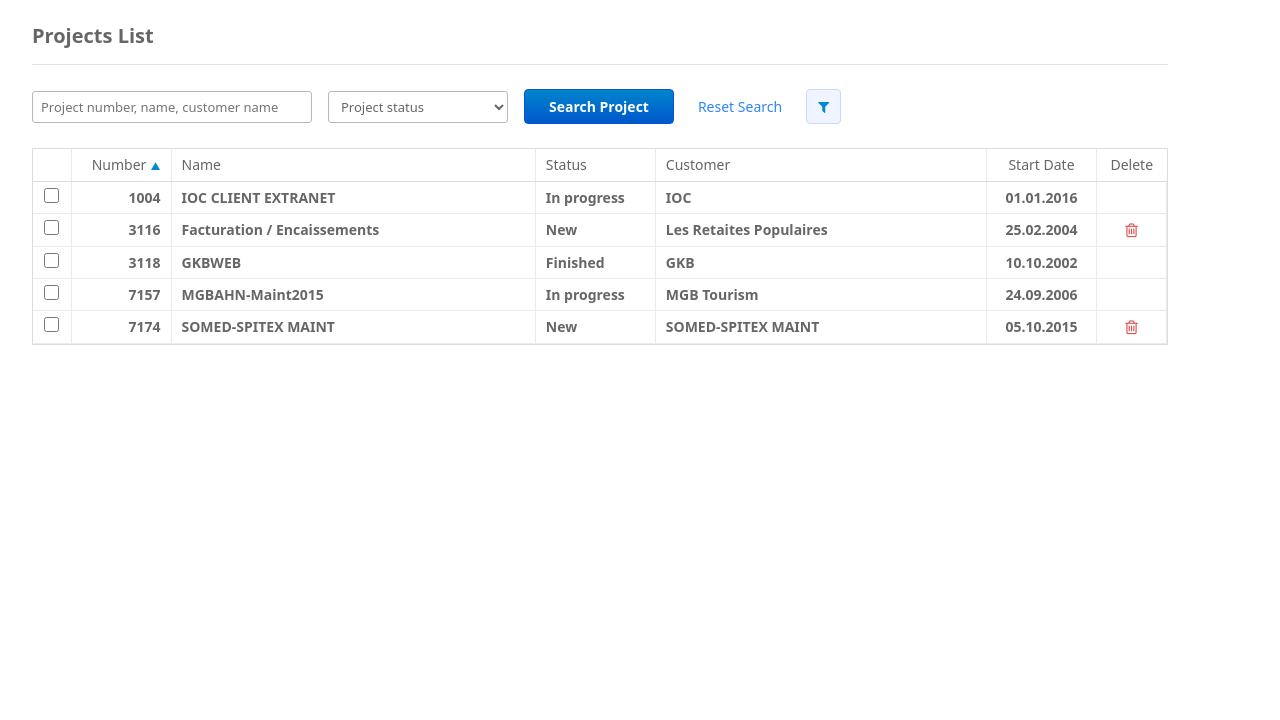
it: ProjectList Component Tests › handles concurrent delete error gracefully by refreshing and showing concurrency notice
This screenshot has width=1280, height=720.
Expected: the link "3116" is shown, [128,220,160,239]
What coordinates should you click on to do the following:
click the button named "Delete project 3116"
I would click on:
 (1132, 230)
Its box is [1121,218,1142,242].
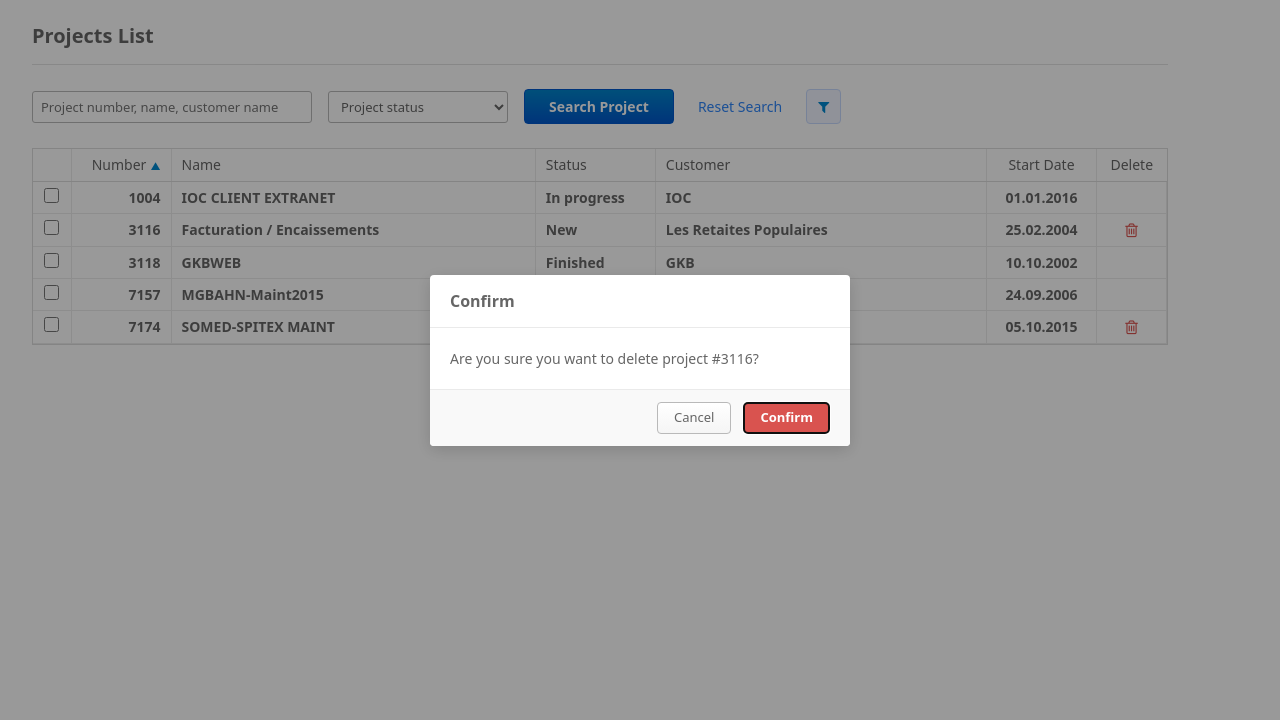
What coordinates should you click on to do the following:
click the button "Confirm"
I would click on:
 (787, 418)
Its box is [744,402,830,434].
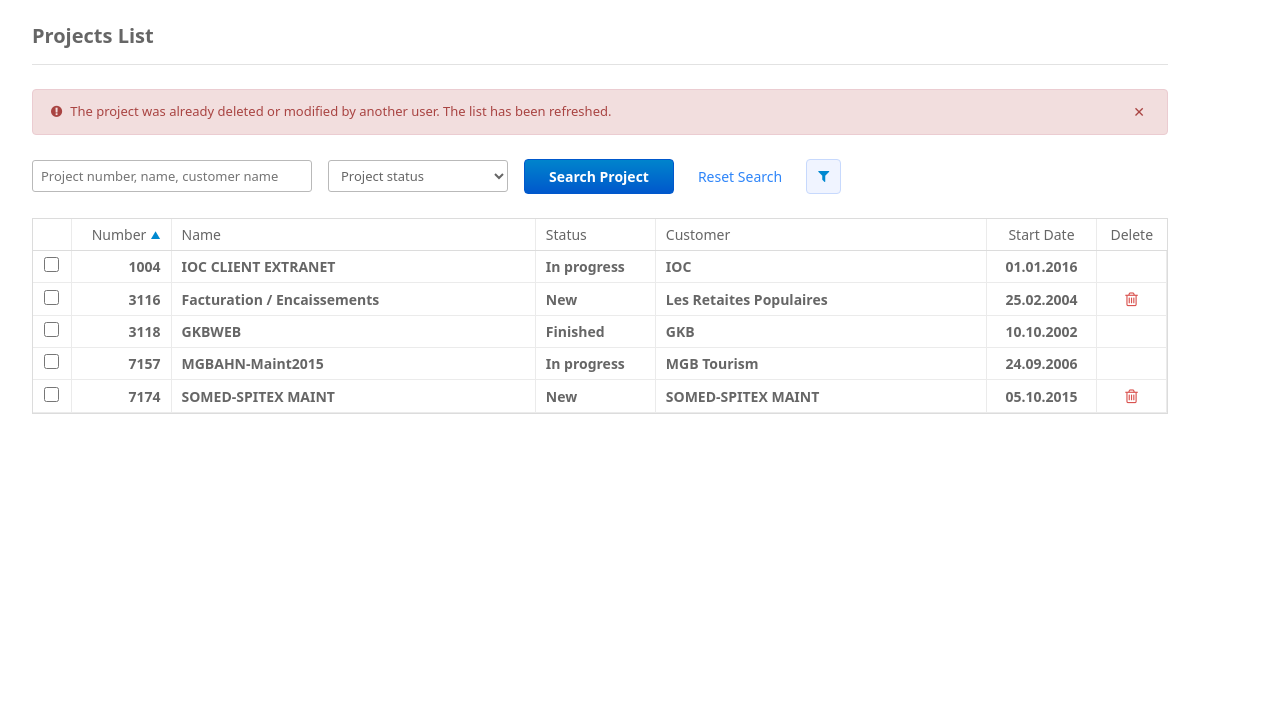
Result: the text "already deleted or modified by another user" is shown at [70,102,612,120]
What coordinates should you click on to do the following:
click the button named "Close error"
I would click on:
 (1139, 112)
Its box is [1129,105,1149,119].
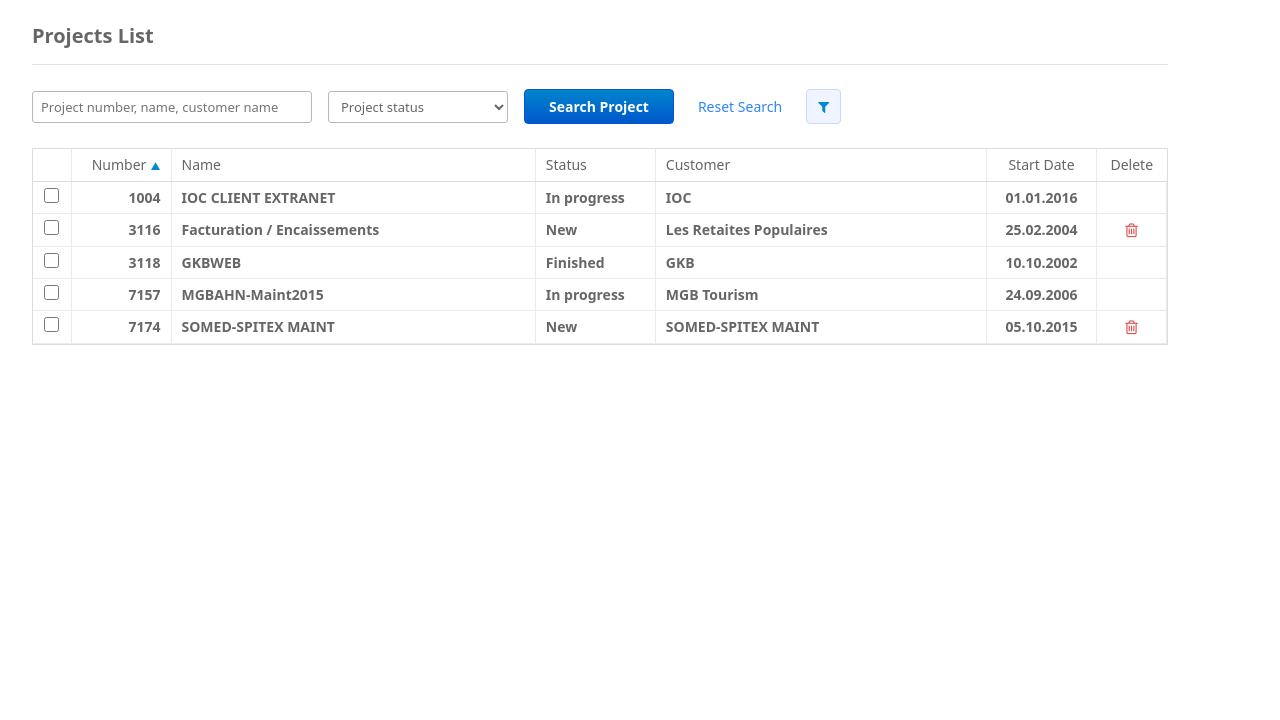
Result: the text "already deleted or modified by another user" is gone
